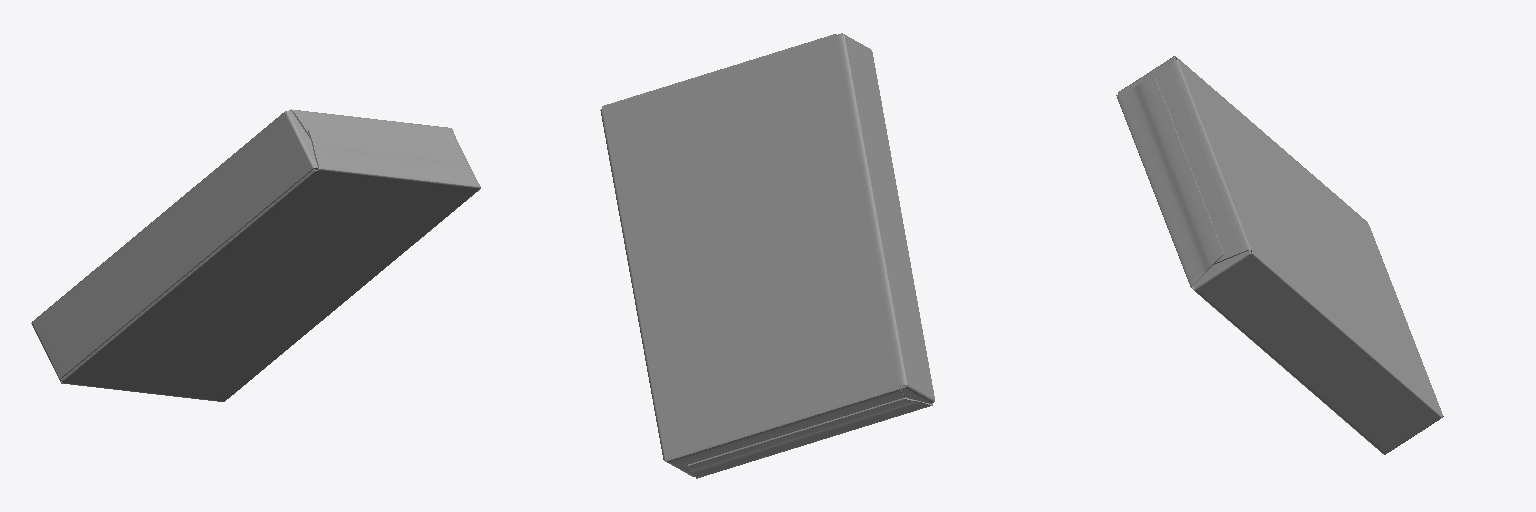
The model's file is box_of_cereal_xyz.obj.
3 views of the same model, side by side, from view 1: azimuth 30°, elevation 25°; view 2: azimuth 150°, elevation 25°; view 3: azimuth 270°, elevation 25° (orthographic).
Visible parts, largest first — view 1: Box_Box_Box_Box_of_cerealCOL_jpg; view 2: Box_Box_Box_Box_of_cerealCOL_jpg; view 3: Box_Box_Box_Box_of_cerealCOL_jpg.
Part boxes in pixels (left/top/right/bottom): Box_Box_Box_Box_of_cerealCOL_jpg: left=31, top=109, right=480, bottom=401; Box_Box_Box_Box_of_cerealCOL_jpg: left=600, top=33, right=934, bottom=478; Box_Box_Box_Box_of_cerealCOL_jpg: left=1116, top=56, right=1443, bottom=454.
Size of the model in its own units: 0.1239 by 0.1232 by 0.0966.